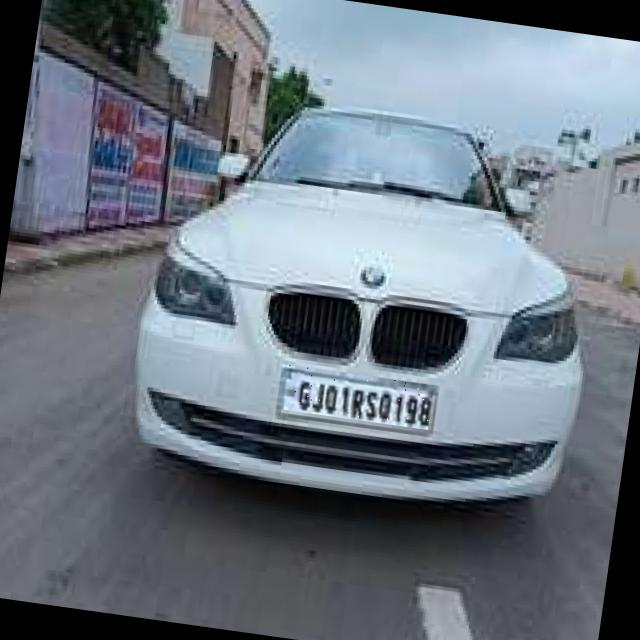Plate: (277, 365, 435, 431)
